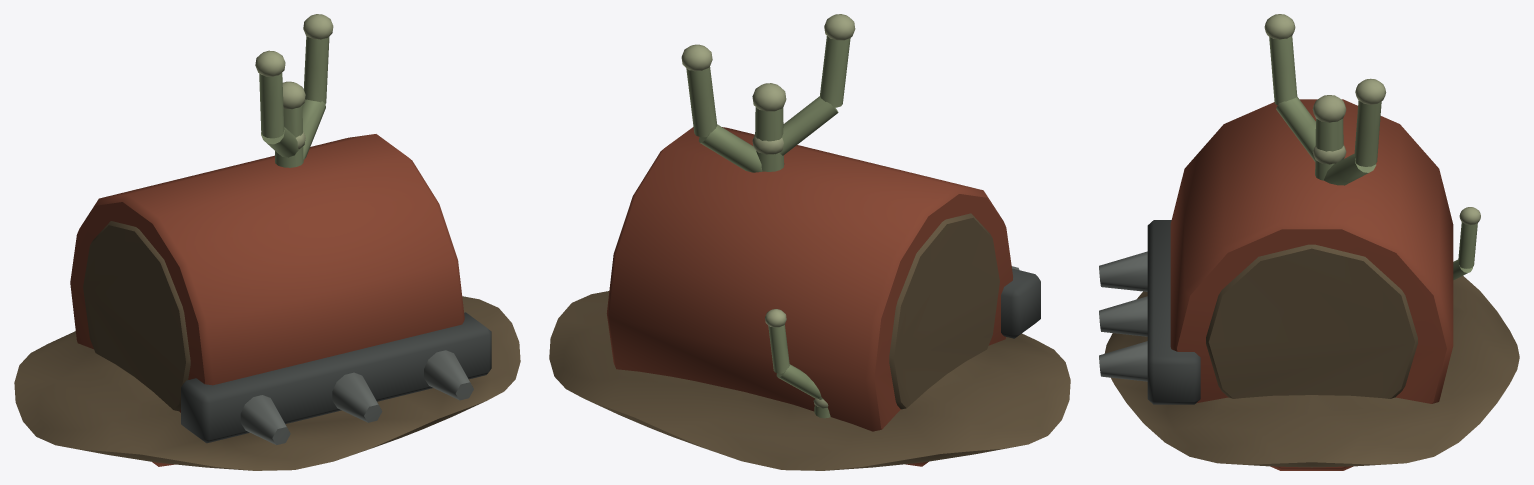
The model's file is rock_bucket_a.glb.
3 renders of one model, left to right at view 1: azimuth 30°, elevation 25°; view 2: azimuth 150°, elevation 25°; view 3: azimuth 270°, elevation 25°, orthographic. The views are drawn at different scales.
Parts seen in each view (by area): view 1: Surface; view 2: Surface; view 3: Surface.
Part boxes in pixels (x1=…): Surface: x1=14, y1=14, x2=520, y2=470; Surface: x1=549, y1=14, x2=1070, y2=470; Surface: x1=1099, y1=14, x2=1519, y2=470.
Size of the model in its own units: 3.03 by 2.43 by 2.38.
